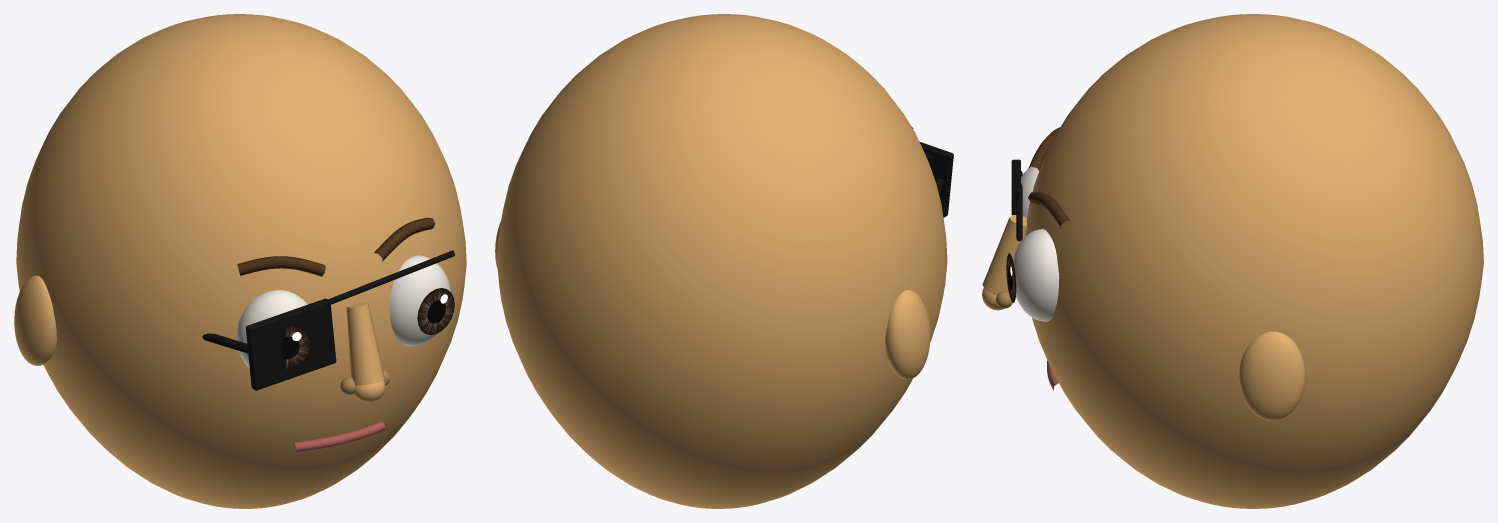
The model's file is 08-cache-il.glb.
3 views of the same model, side by side, from view 1: azimuth 30°, elevation 25°; view 2: azimuth 150°, elevation 25°; view 3: azimuth 270°, elevation 25° (orthographic).
Bounding box in the file's own units: 0.3087 × 0.321 × 0.3166.
11 materials, 1 textured.
